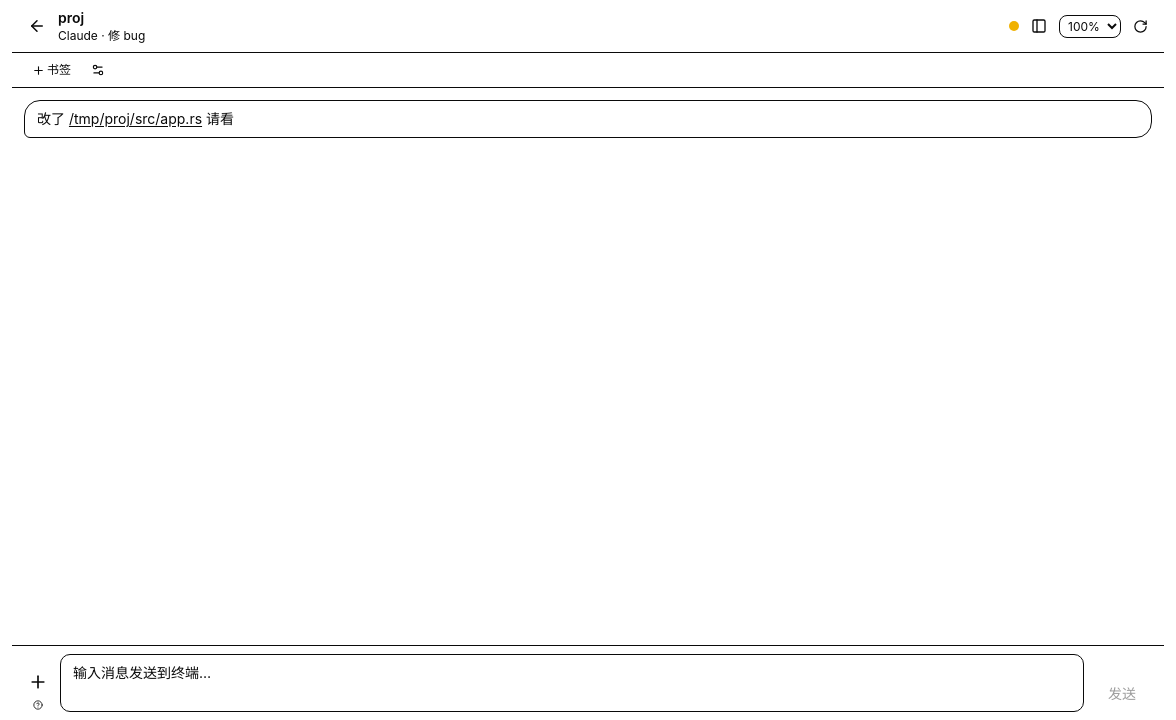
Test case: SessionDetail：文件链接化与预览联动 › 文件路径渲染为链接：点击开全屏预览，可切分屏，关闭回到对话
// 链接化按钮出现在正文里（content 中出现的已知路径）
Click the button with test id "file-link" at (135, 119), box [69, 109, 202, 129]
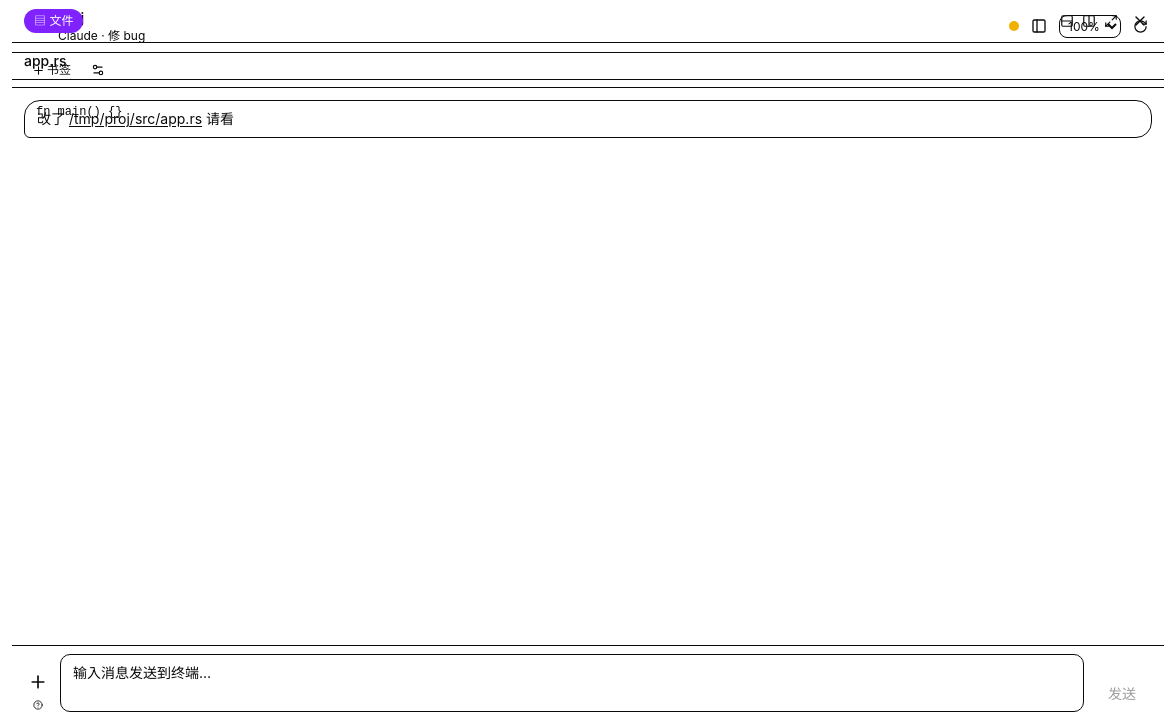
Now the element with test id "preview-code" reads "fn main() {}", box [36, 105, 122, 119]
Click the button with test id "preview-toggle-split" at (1067, 21), box [1056, 10, 1078, 32]
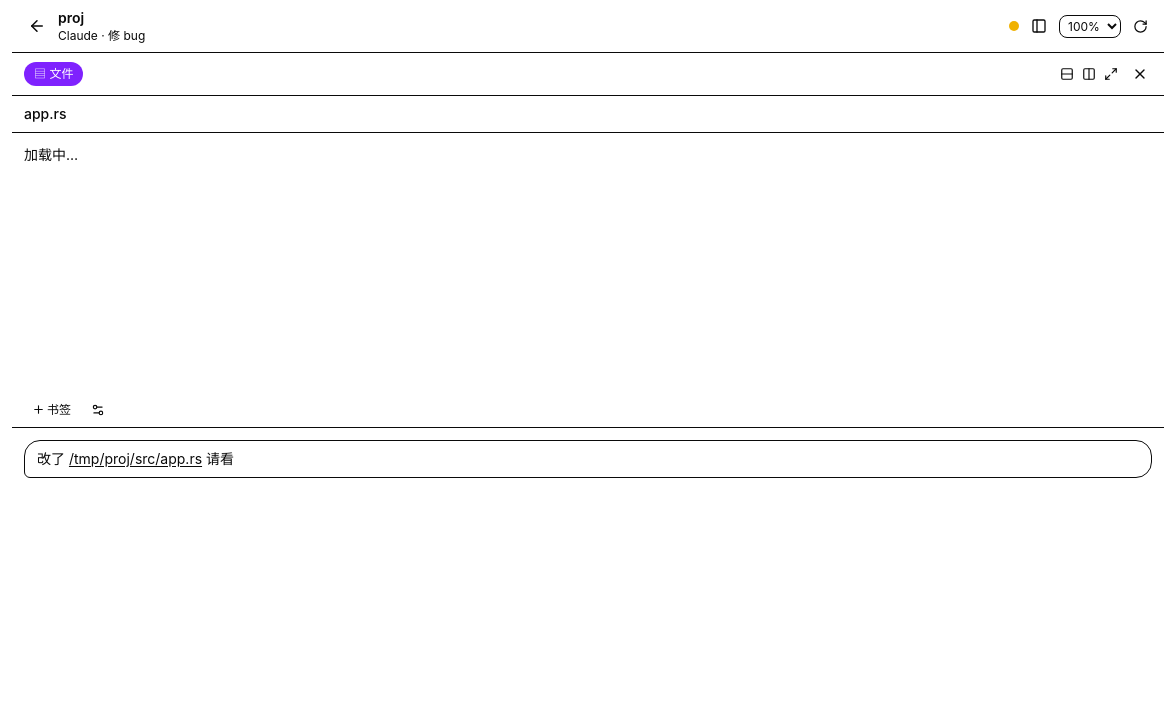
Now the element with test id "file-preview" has attribute data-mode="split", box [12, 96, 1164, 163]
// 关闭预览：对话仍在（同一组件树内状态保持）
Click the button with test id "preview-close" at (1140, 74), box [1128, 62, 1152, 86]
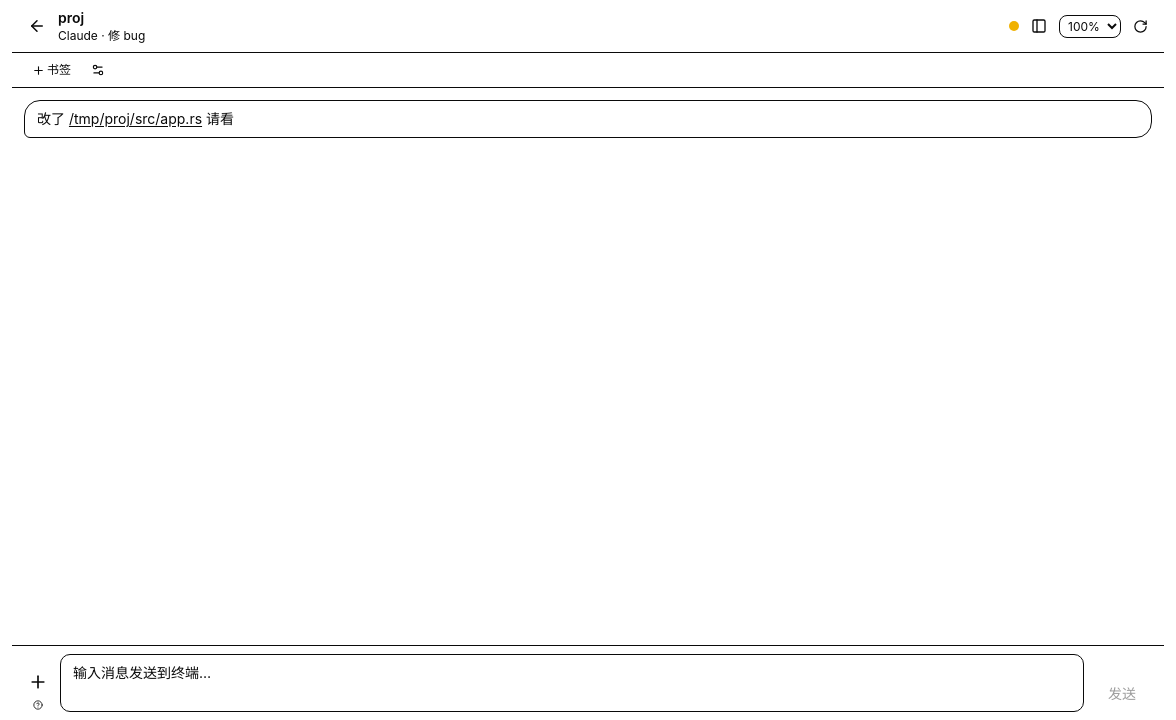
Expected: the text "改了" is shown, [37, 110, 69, 127]
Now the element with test id "file-preview" is gone
